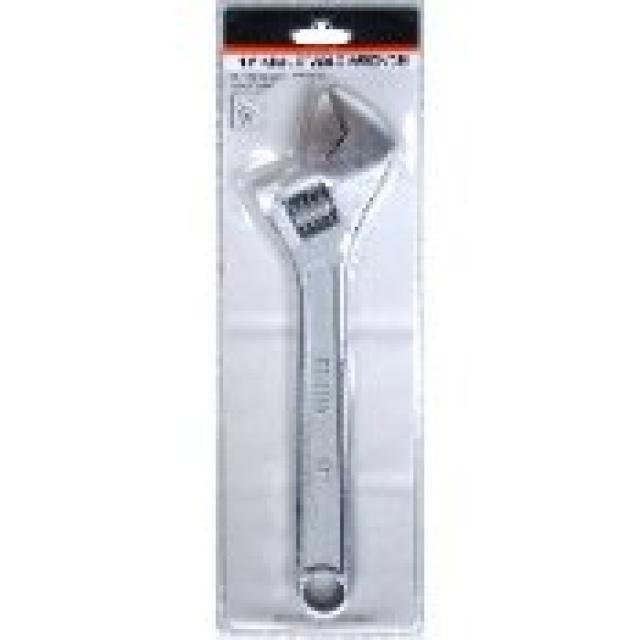wrench: (238, 68, 410, 606)
